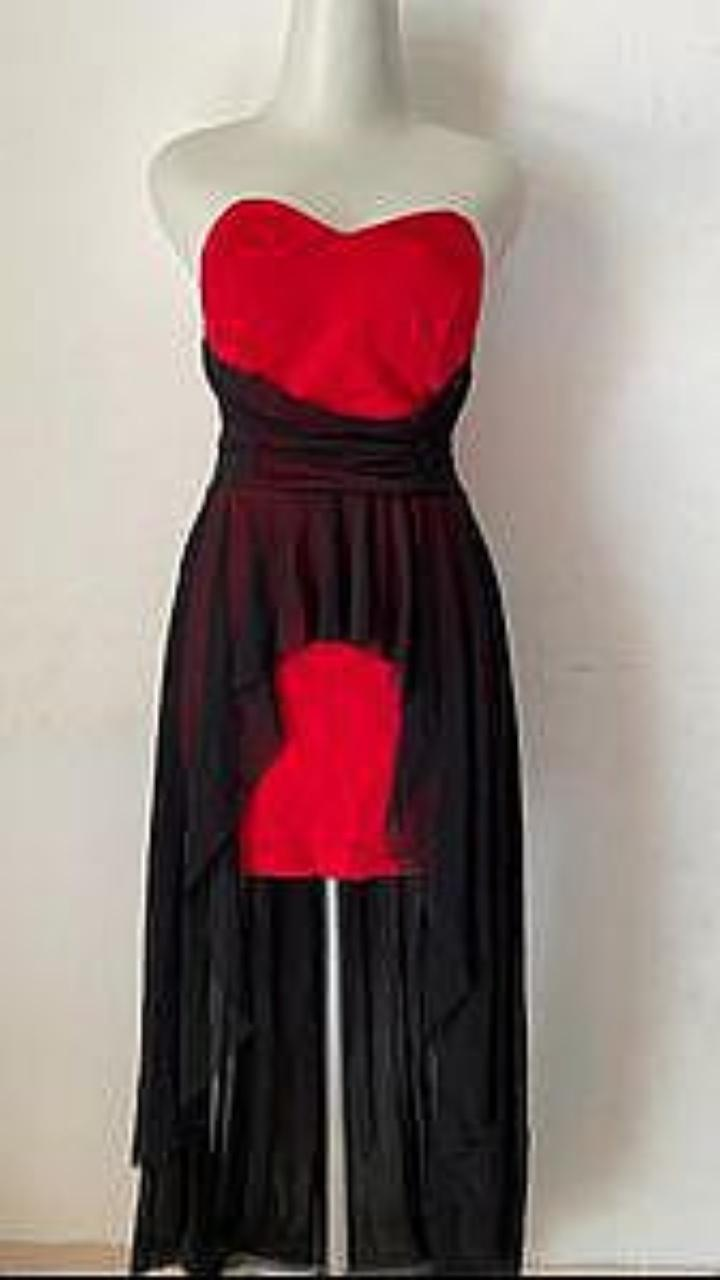Dresses: (131, 197, 527, 1274)
